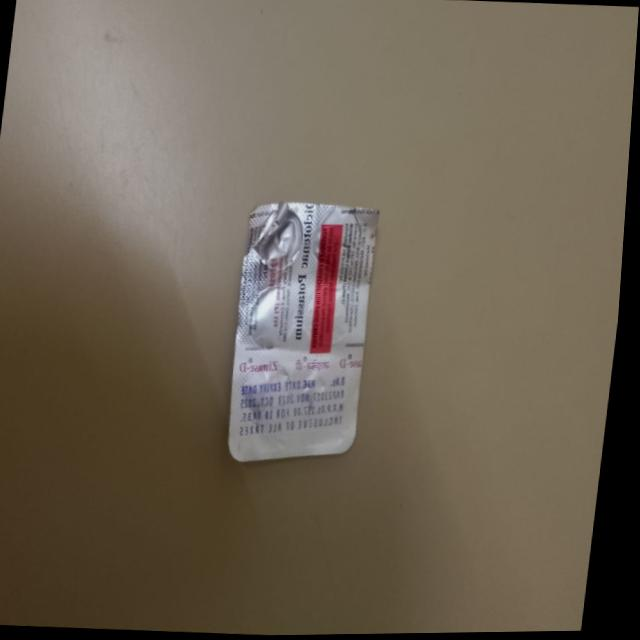medicine: (218, 168, 414, 478)
